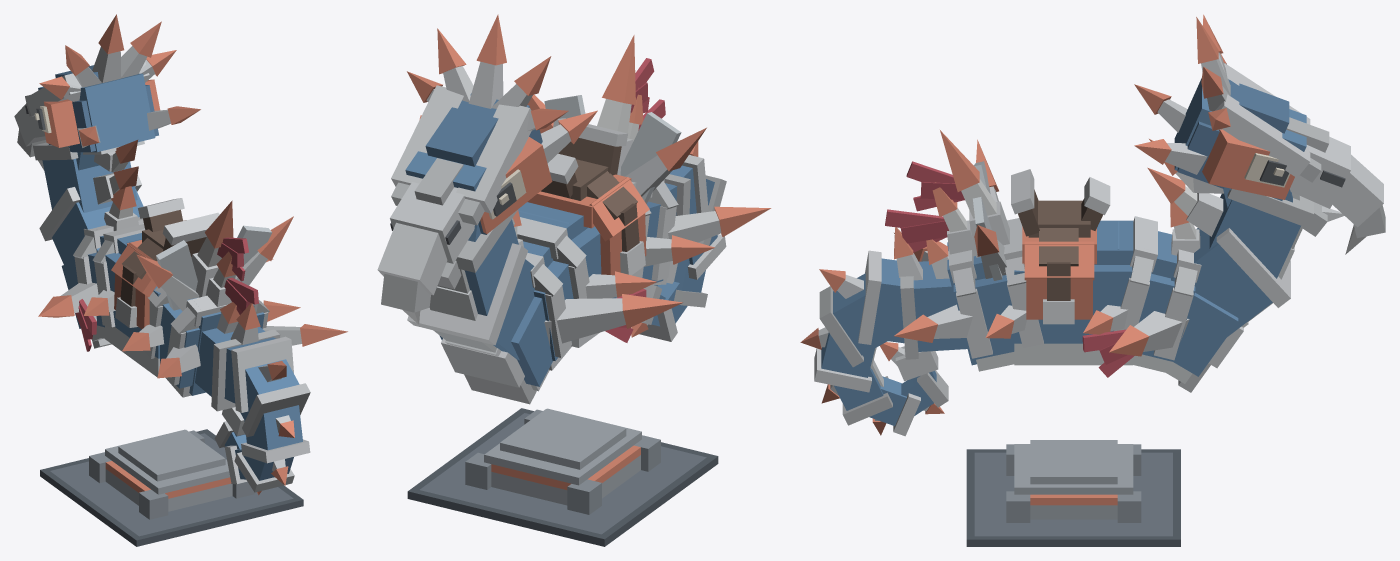
File: SeahorseRocker6.glb
3 renders of one model, left to right at view 1: azimuth 30°, elevation 25°; view 2: azimuth 150°, elevation 25°; view 3: azimuth 270°, elevation 25°, orthographic. The views are drawn at different scales.
Parts seen in each view (by area): view 1: Body, Stand, Head, Neck, Fan, T2, T3, T1, T4, FinL, T5, T7 (+2 smaller); view 2: Body, Head, Stand, Neck, Fan, FinL, T5, T2, T6, T4, T1, T3; view 3: Body, Stand, Head, Neck, Fan, T2, T1, T3, FinR, T4, T5, T6 (+2 smaller).
Boxes of the visible parts, x1=… form: Body: x1=61, y1=186, x2=347, y2=397; Stand: x1=40, y1=429, x2=303, y2=546; Head: x1=14, y1=14, x2=200, y2=170; Neck: x1=33, y1=140, x2=143, y2=264; Fan: x1=136, y1=200, x2=293, y2=311; T2: x1=224, y1=303, x2=293, y2=412; T3: x1=240, y1=359, x2=310, y2=437; T1: x1=195, y1=302, x2=280, y2=411; T4: x1=241, y1=405, x2=310, y2=463; FinL: x1=38, y1=282, x2=98, y2=351; T5: x1=234, y1=452, x2=294, y2=492; T7: x1=214, y1=421, x2=246, y2=449; Body: x1=439, y1=88, x2=771, y2=404; Head: x1=377, y1=14, x2=597, y2=324; Stand: x1=407, y1=408, x2=718, y2=546; Neck: x1=407, y1=210, x2=534, y2=360; Fan: x1=527, y1=35, x2=706, y2=203; FinL: x1=544, y1=288, x2=682, y2=346; T5: x1=666, y1=258, x2=707, y2=307; T2: x1=665, y1=155, x2=708, y2=214; T6: x1=639, y1=281, x2=687, y2=341; T4: x1=687, y1=234, x2=726, y2=279; T1: x1=664, y1=174, x2=690, y2=215; T3: x1=689, y1=141, x2=726, y2=245; Body: x1=885, y1=169, x2=1243, y2=392; Stand: x1=966, y1=440, x2=1180, y2=546; Head: x1=1134, y1=14, x2=1385, y2=254; Neck: x1=1147, y1=139, x2=1313, y2=336; Fan: x1=906, y1=130, x2=1009, y2=280; T2: x1=858, y1=227, x2=922, y2=344; T1: x1=900, y1=239, x2=967, y2=359; T3: x1=819, y1=269, x2=887, y2=367; FinR: x1=1082, y1=311, x2=1189, y2=377; T4: x1=800, y1=327, x2=876, y2=392; T5: x1=821, y1=360, x2=892, y2=425; T6: x1=869, y1=376, x2=920, y2=436.
Size of the model in its own units: 15.27 by 26.99 by 29.5.
